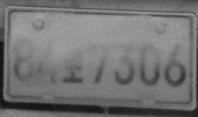0: (139, 42, 161, 86)
3: (112, 42, 135, 84)
4: (36, 39, 59, 82)
6: (163, 41, 186, 87)
7: (87, 42, 110, 85)
8: (13, 37, 33, 82)
로: (61, 46, 83, 83)
